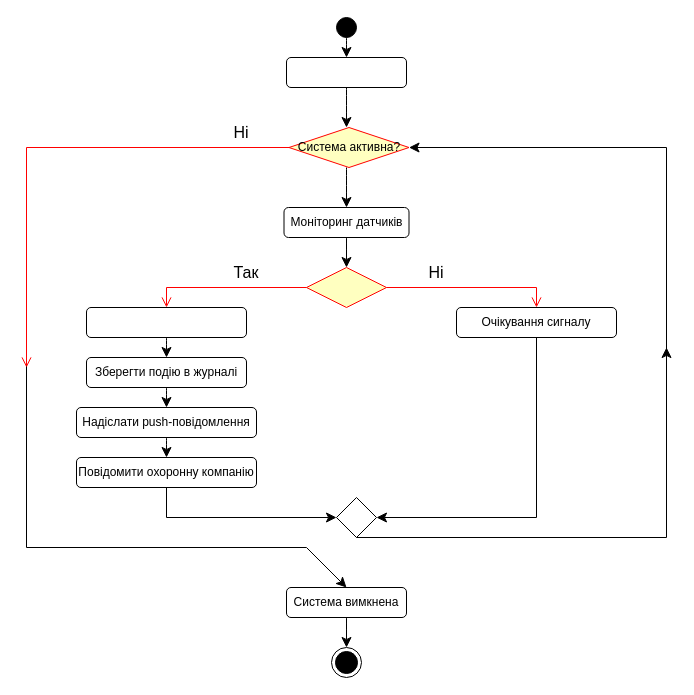
Image size: 694x695. Some labels were removed from this diagram. The centre of each missing label's shape, as x and y in pixels:
Отримано сигнал?: (346,287)
Система увімкнена: (346,72)
Створити повідомлення: (166,322)
